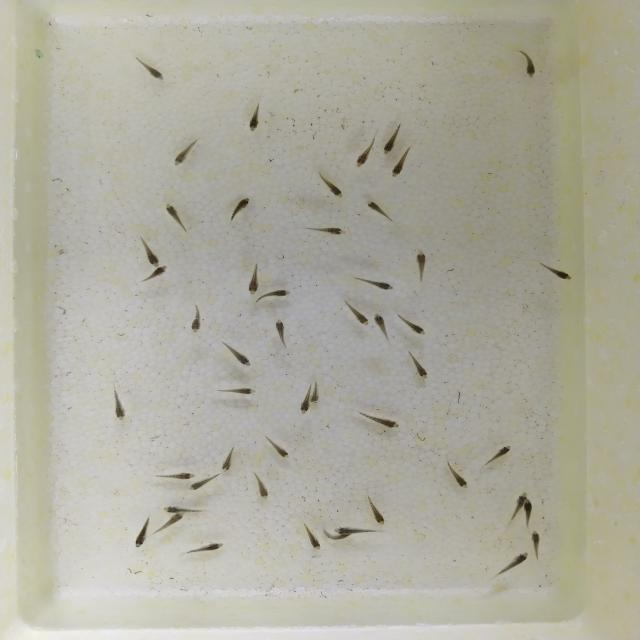fingerling: (157, 200, 196, 233), (512, 46, 542, 82), (539, 260, 583, 284), (260, 434, 298, 461), (134, 53, 164, 84), (224, 342, 259, 368), (166, 135, 194, 167), (442, 462, 473, 489), (406, 352, 433, 382), (314, 172, 345, 198), (366, 410, 404, 431), (241, 100, 262, 135), (299, 224, 351, 238), (498, 550, 526, 576), (412, 244, 431, 282), (363, 201, 393, 225), (364, 495, 388, 525), (186, 298, 205, 333), (349, 140, 374, 166), (302, 527, 328, 552), (108, 390, 128, 422), (352, 277, 394, 292), (401, 314, 428, 336), (488, 443, 515, 465), (344, 302, 370, 324), (252, 289, 295, 302), (135, 514, 149, 553), (159, 510, 186, 530), (140, 242, 162, 266), (255, 470, 273, 499), (230, 193, 248, 220), (218, 386, 262, 397), (148, 262, 168, 286), (270, 318, 289, 342), (381, 129, 397, 157), (218, 445, 235, 471), (244, 265, 258, 296), (164, 502, 200, 514), (374, 309, 389, 337), (190, 542, 232, 552), (191, 476, 217, 492), (158, 470, 196, 480), (531, 531, 543, 562), (392, 151, 406, 177), (524, 498, 537, 521), (335, 525, 372, 533), (297, 398, 311, 416), (514, 491, 527, 510), (310, 389, 324, 403)
